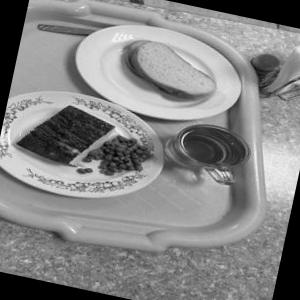bread: (113, 26, 226, 106)
casserole: (0, 80, 165, 202)
tea: (148, 104, 254, 205)
